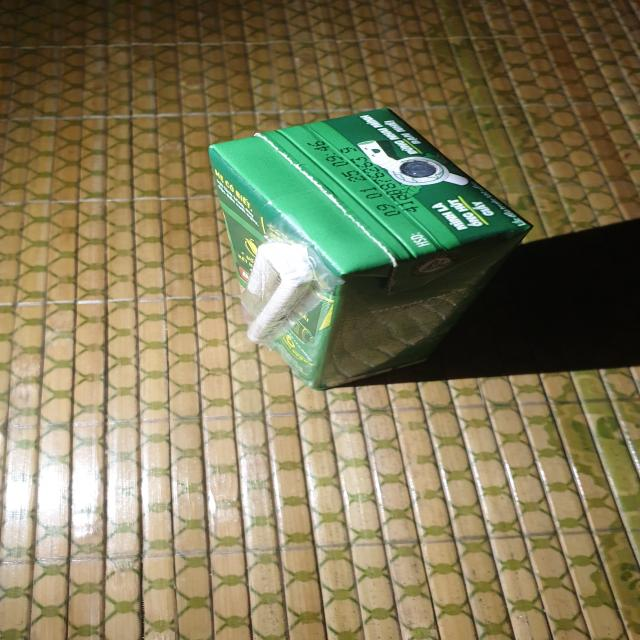Milo: (207, 114, 532, 393)
